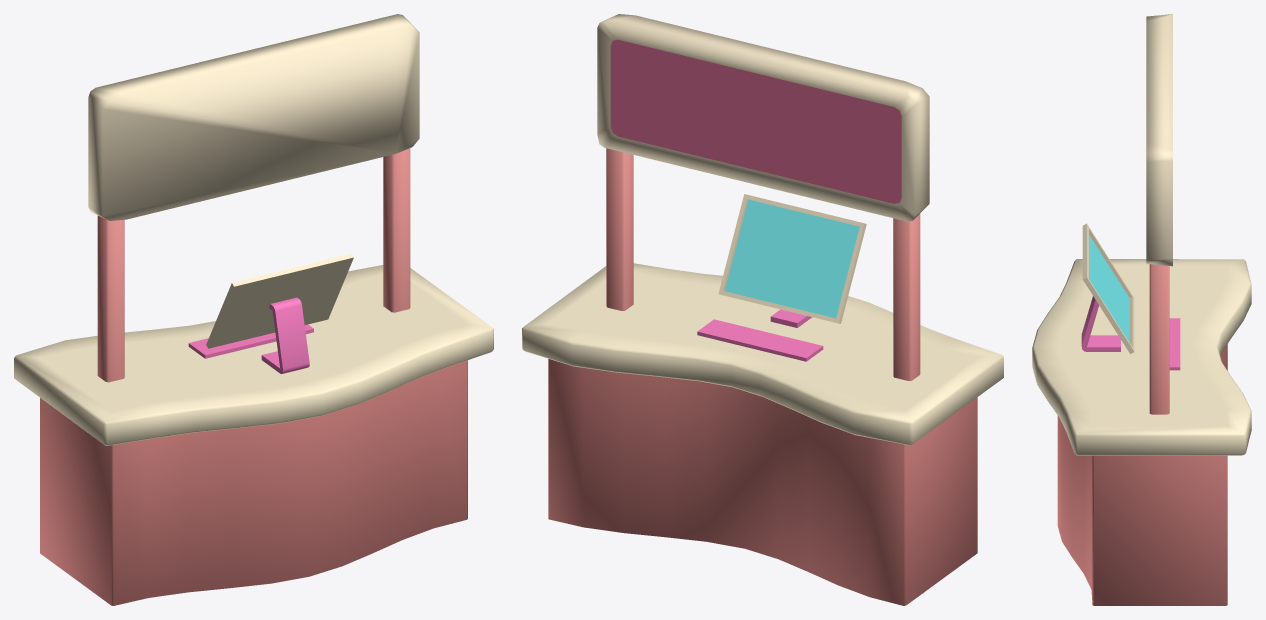
File: UpgradeCenter.fbx
3 views of the same model, side by side, from view 1: azimuth 30°, elevation 25°; view 2: azimuth 150°, elevation 25°; view 3: azimuth 270°, elevation 25° (orthographic). The views are drawn at different scales.
Parts seen in each view (by area): view 1: Cube.004; view 2: Cube.004; view 3: Cube.004.
Boxes of the visible parts, box(x1,y1,x2,y2) form: Cube.004: box(14, 14, 493, 605); Cube.004: box(522, 14, 1003, 605); Cube.004: box(1032, 14, 1251, 605).
Bounding box in the file's own units: 2.46 × 2.9 × 1.3.
